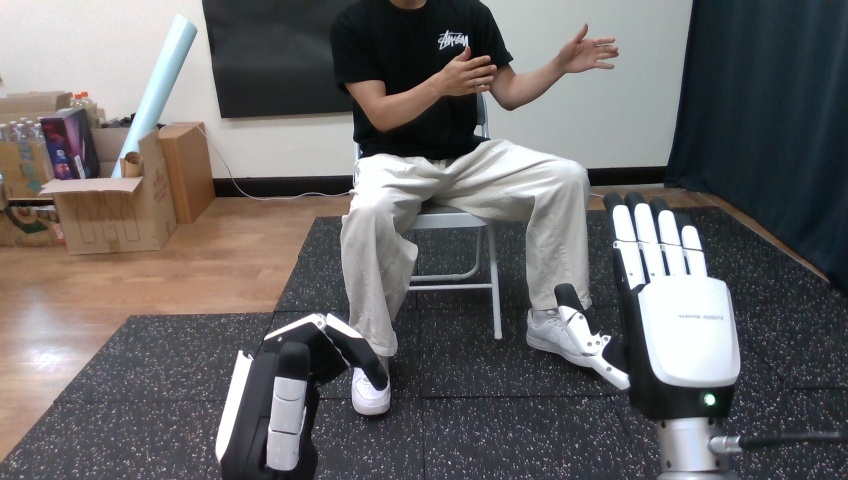left robot hand: (604, 192, 740, 479), (216, 313, 389, 478), (430, 46, 496, 96), (555, 24, 618, 73)
